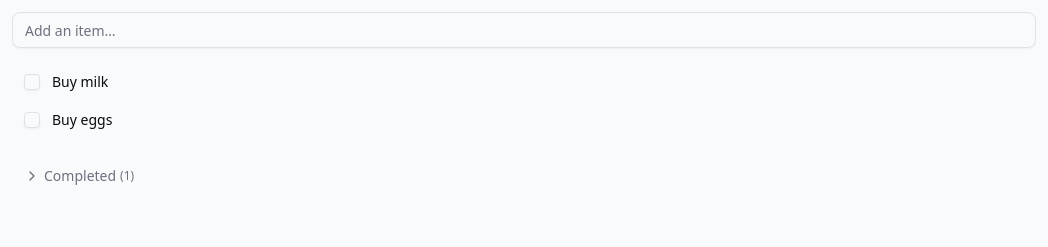
Test: ListView › expands completed section when clicked
Step 1. Click the button "Completed (1)" → (79, 176), box [24, 166, 134, 186]
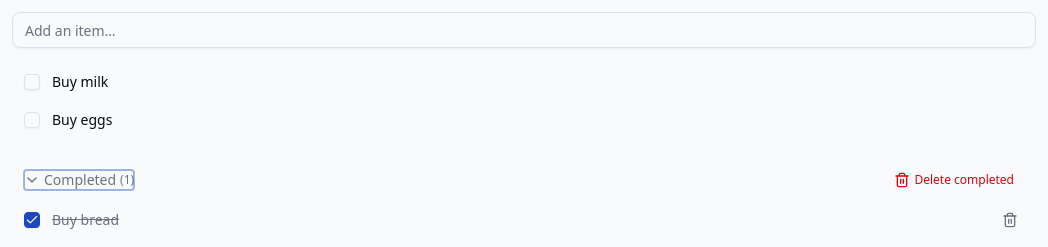
Check: the text "Buy bread" is shown, box [52, 210, 119, 230]
